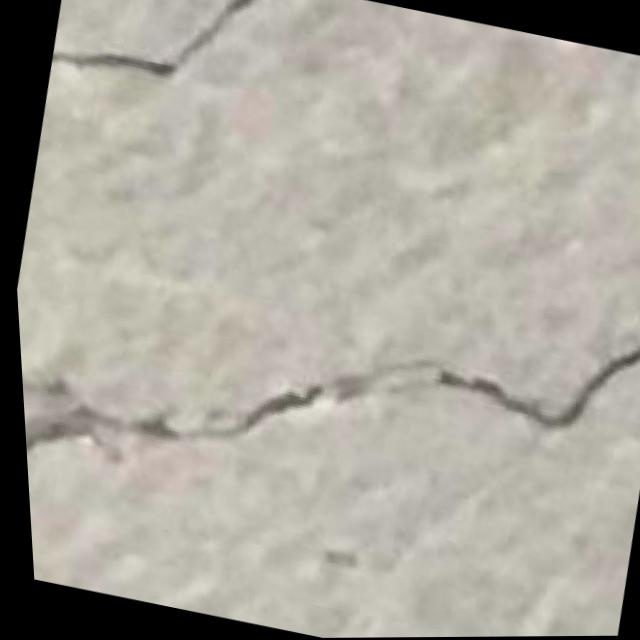Crack: (9, 193, 640, 611), (45, 0, 304, 118)
